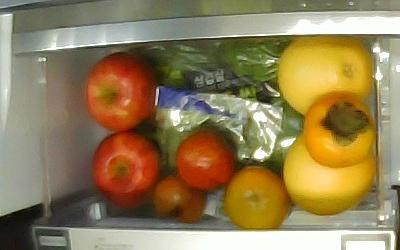apple: (85, 51, 155, 133), (92, 131, 160, 209)
grapefruit: (283, 132, 377, 216), (278, 37, 373, 116)
persimmon: (303, 91, 373, 169), (224, 165, 286, 229)
prune: (176, 130, 236, 193), (153, 173, 207, 225)
